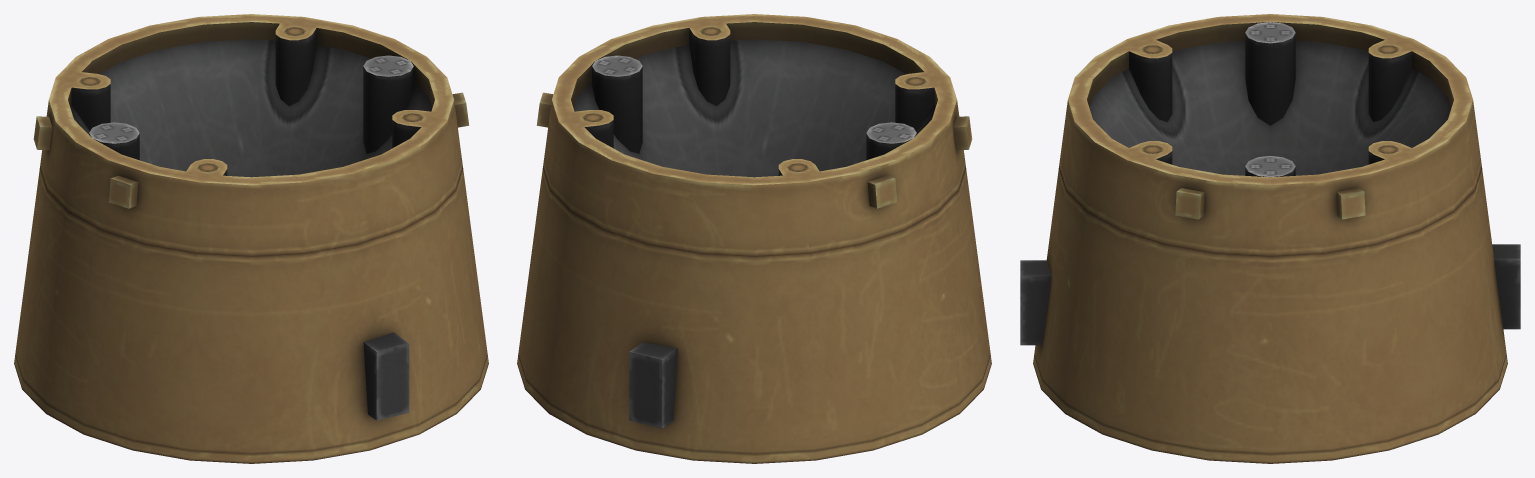
File: octans_basic_docking_port_s0p5_1_female.obj
3 views of the same model, side by side, from view 1: azimuth 30°, elevation 25°; view 2: azimuth 150°, elevation 25°; view 3: azimuth 270°, elevation 25° (orthographic).
Parts seen in each view (by area): view 1: mesh; view 2: mesh; view 3: mesh.
Part boxes in pixels (x1,y1,x2,y2): mesh: (14,14,488,463); mesh: (517,14,991,463); mesh: (1020,14,1520,463).
Size of the model in its own units: 0.9375 by 0.575 by 0.9875.
